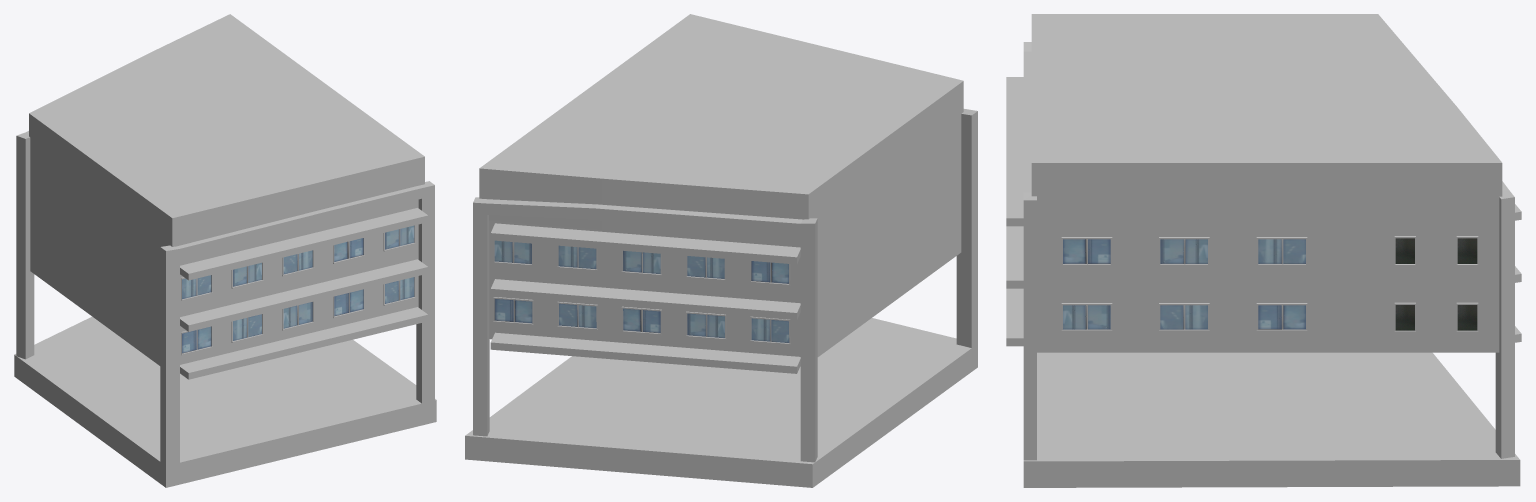
Rendered from bldg_mall_08b.fbx.
3 views of the same model, side by side, from view 1: azimuth 30°, elevation 25°; view 2: azimuth 150°, elevation 25°; view 3: azimuth 270°, elevation 25° (orthographic). The views are drawn at different scales.
Visible parts, largest first — view 1: bldg_mall_08b; view 2: bldg_mall_08b; view 3: bldg_mall_08b.
Part boxes in pixels (x1,y1,x2,y2): bldg_mall_08b: (14,14,436,487); bldg_mall_08b: (465,14,977,487); bldg_mall_08b: (1006,14,1521,487).
Bounding box in the file's own units: 13.17 × 12.31 × 17.97.
